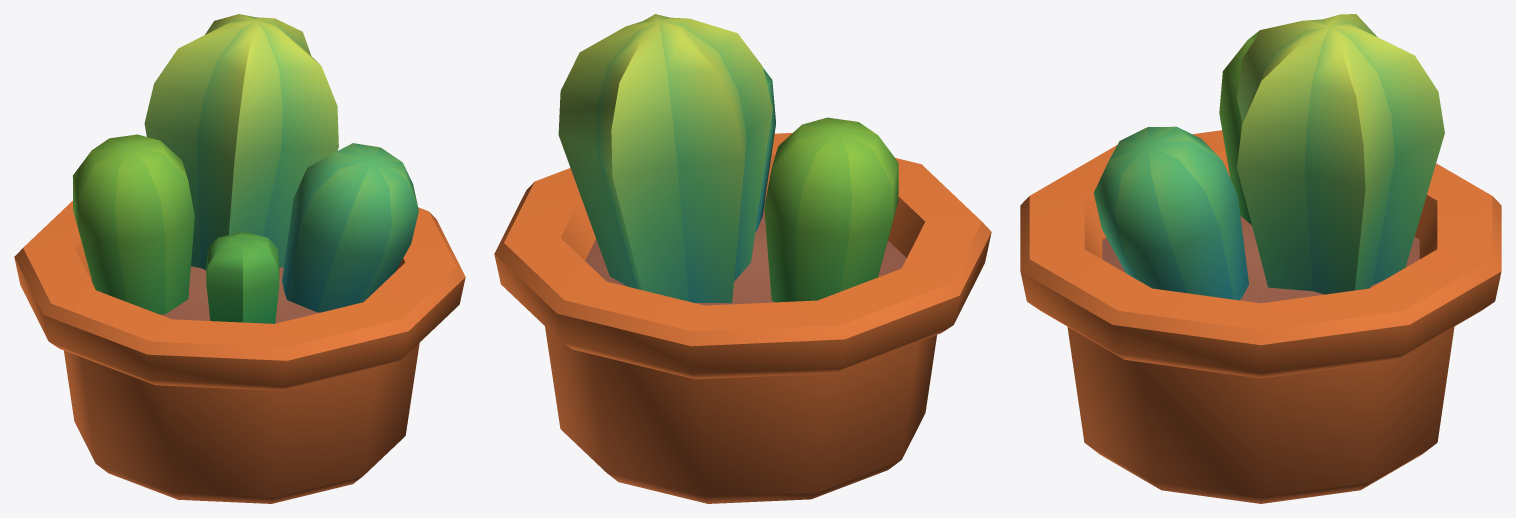
Rendered from Cactus.glb.
3 views of the same model, side by side, from view 1: azimuth 30°, elevation 25°; view 2: azimuth 150°, elevation 25°; view 3: azimuth 270°, elevation 25° (orthographic). The views are drawn at different scales.
Parts seen in each view (by area): view 1: cactus_medium_B; view 2: cactus_medium_B; view 3: cactus_medium_B.
Boxes of the visible parts, x1=… form: cactus_medium_B: x1=14, y1=14, x2=465, y2=503; cactus_medium_B: x1=494, y1=14, x2=991, y2=503; cactus_medium_B: x1=1020, y1=14, x2=1501, y2=503.
Bounding box in the file's own units: 0.8799 × 0.8272 × 0.8368.
1 material, 1 textured.
